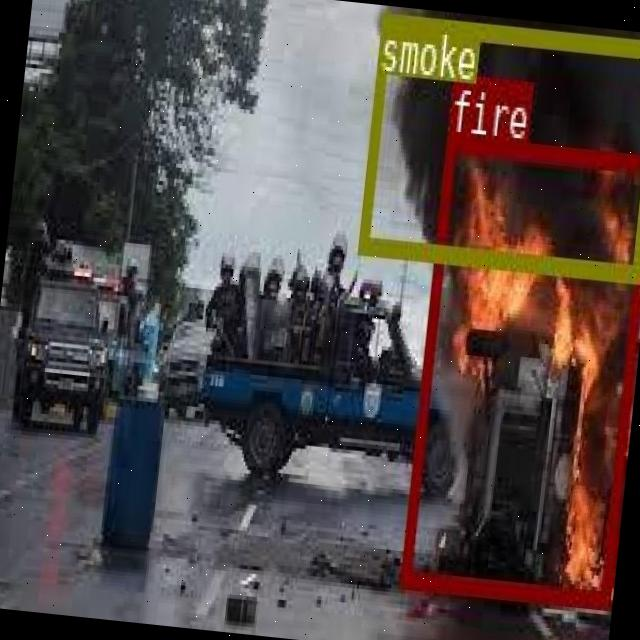fire: (400, 132, 640, 605)
smoke: (356, 9, 640, 277)
